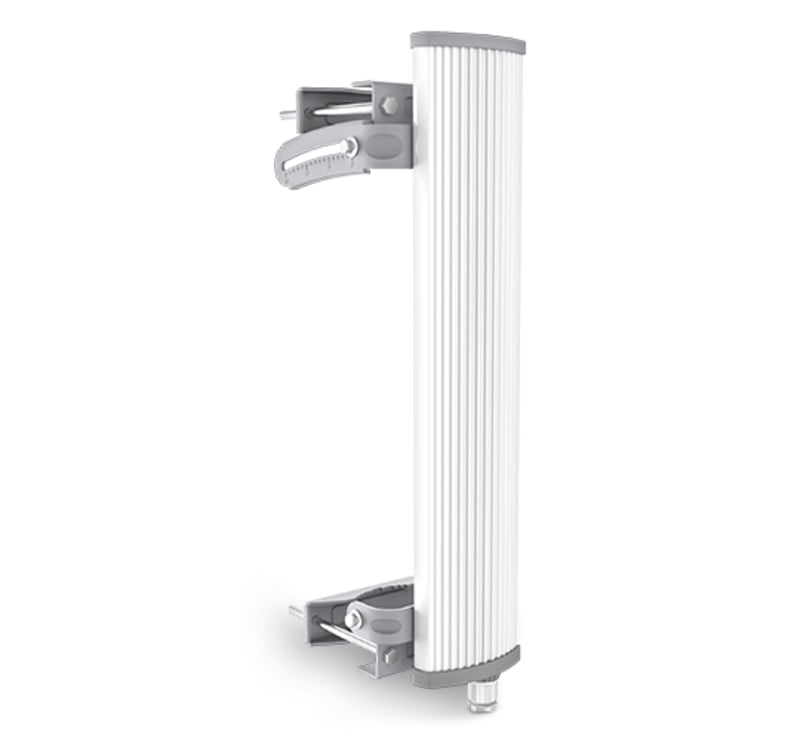sa: (296, 26, 555, 673)
